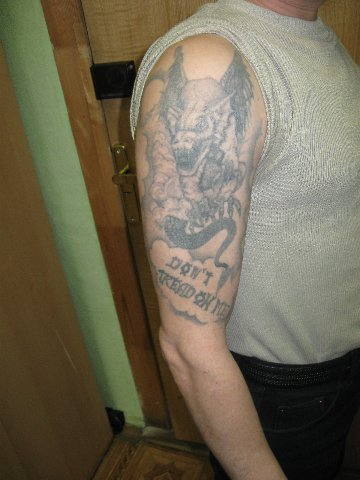tatu3_bukva: (142, 251, 246, 320)
tatu6_drakon: (138, 23, 266, 249)
